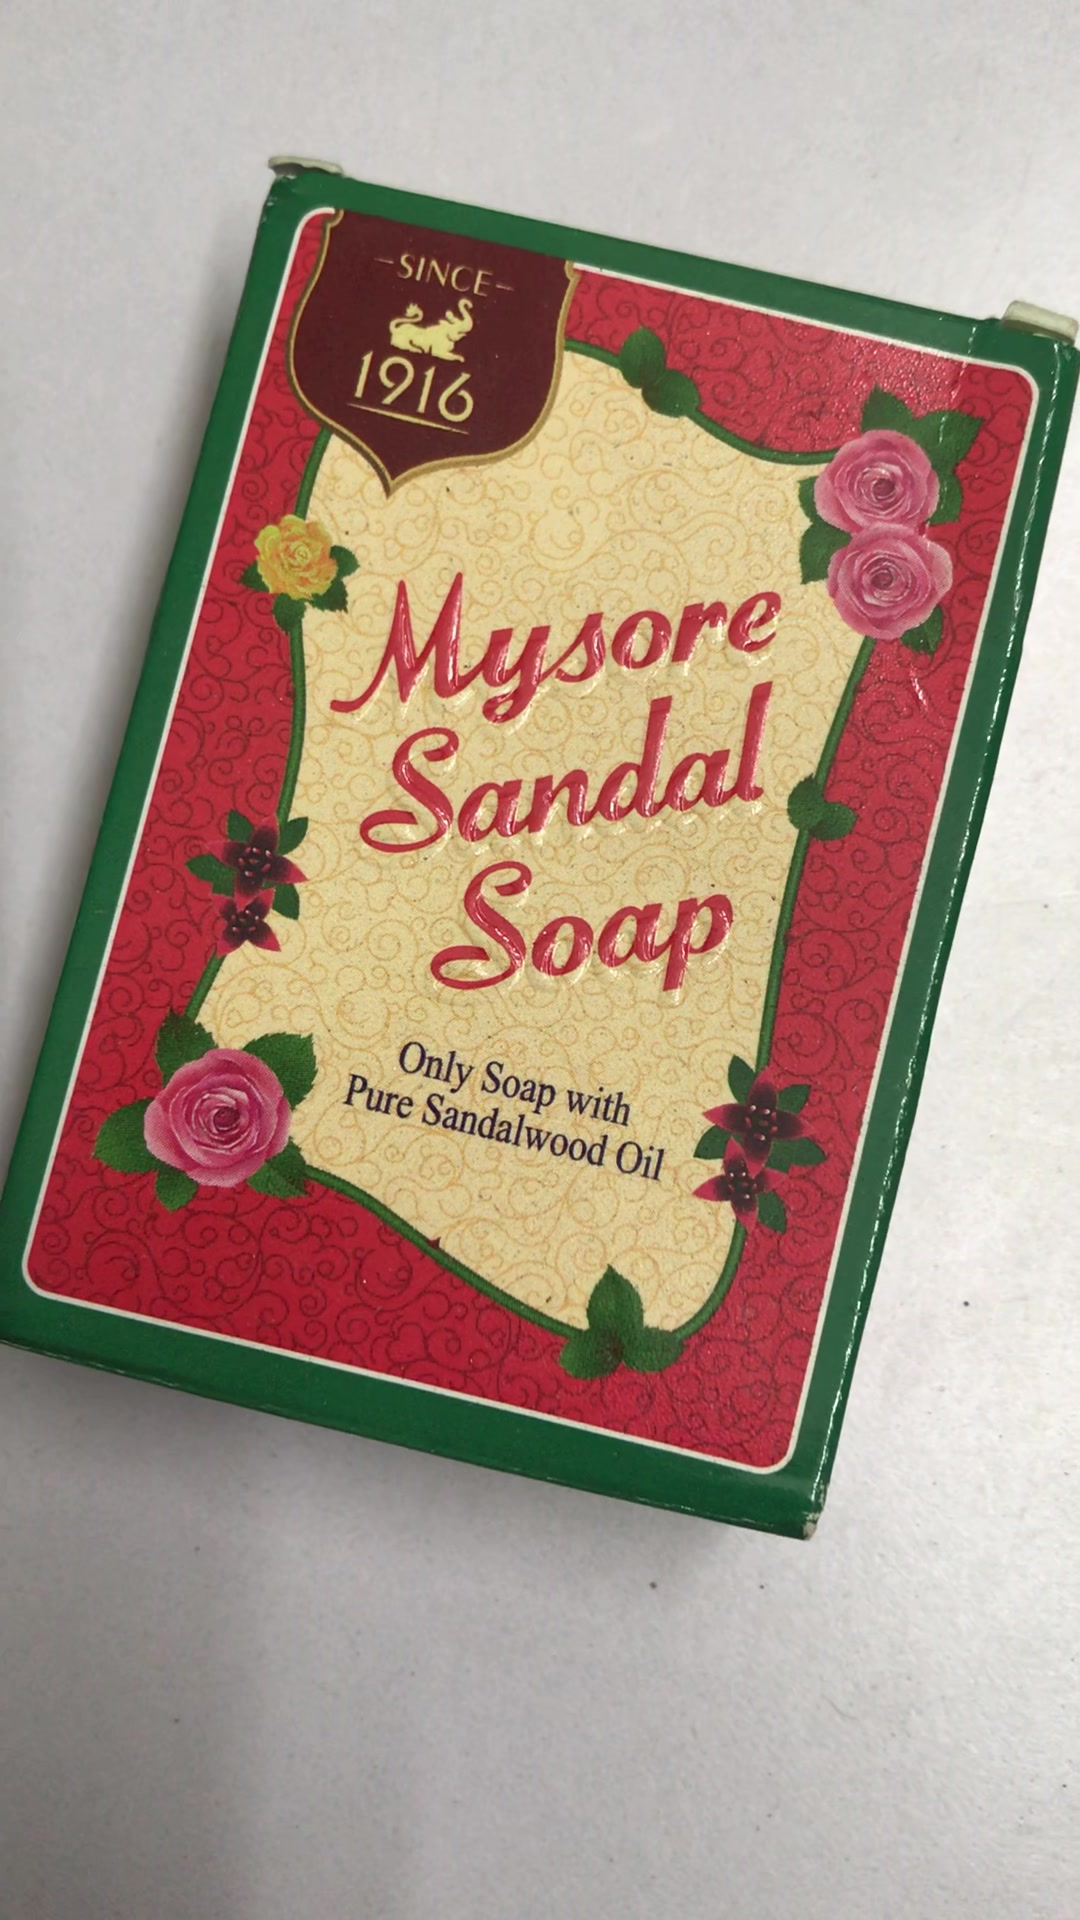mysore sandal soap: (9, 169, 1080, 1531)
